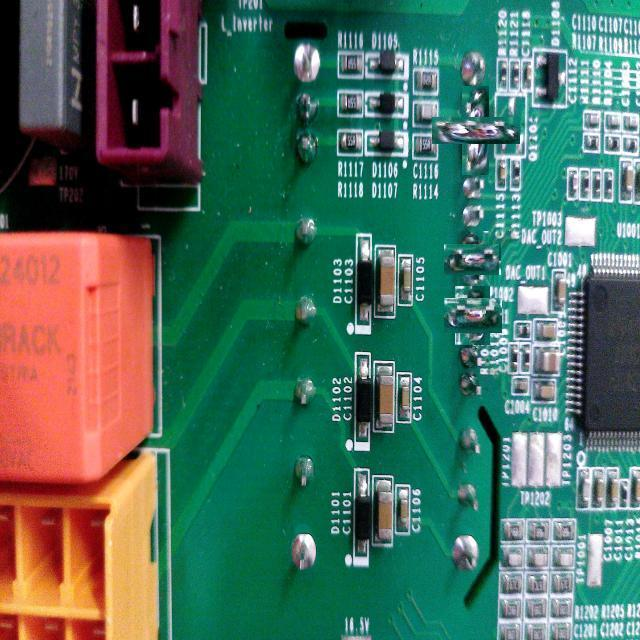Short_circuit: (446, 102, 504, 160), (449, 292, 496, 339), (451, 237, 495, 282)
